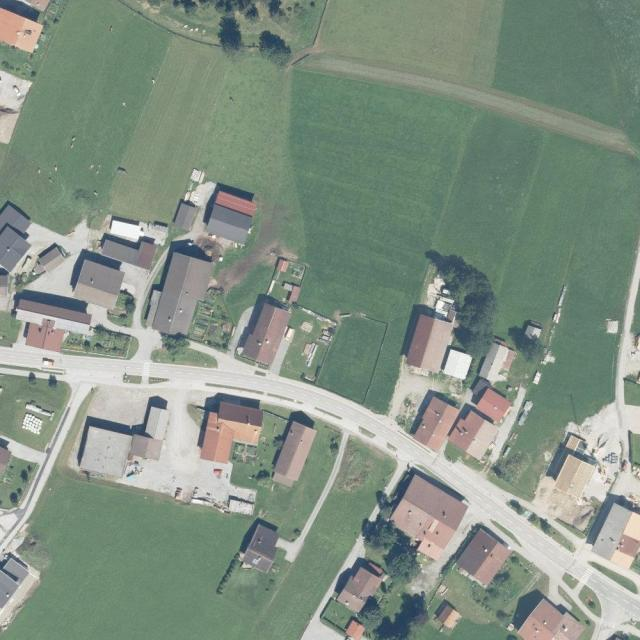agricultural_land: (102, 31, 240, 235), (316, 0, 503, 85)
building: (383, 473, 471, 563), (152, 252, 214, 341), (583, 493, 640, 571), (236, 292, 294, 367), (451, 526, 514, 591), (269, 420, 318, 490), (516, 594, 588, 640), (404, 312, 456, 375), (446, 407, 501, 462), (14, 298, 93, 336), (79, 426, 133, 481), (412, 396, 461, 454), (72, 260, 126, 311), (335, 562, 384, 615), (214, 401, 266, 445), (241, 523, 285, 574), (552, 452, 597, 500), (0, 8, 45, 55), (199, 411, 238, 465), (0, 201, 30, 271), (204, 203, 253, 245), (101, 234, 157, 270), (478, 340, 520, 387), (26, 241, 69, 281), (473, 386, 515, 426), (25, 316, 67, 352), (214, 189, 258, 218), (442, 348, 475, 382), (431, 599, 464, 633), (107, 217, 146, 244), (144, 406, 171, 441), (129, 433, 162, 461), (173, 201, 199, 233), (343, 618, 368, 640), (524, 321, 543, 339), (564, 433, 582, 452)
dryland: (0, 70, 31, 143)
greenland: (208, 56, 476, 414), (432, 114, 640, 367), (0, 471, 254, 640), (243, 436, 399, 640), (213, 393, 352, 544), (211, 54, 302, 249), (424, 234, 514, 362), (526, 322, 619, 441), (432, 150, 516, 269), (314, 309, 391, 404), (447, 563, 545, 629), (356, 506, 430, 589), (0, 372, 72, 453), (271, 307, 338, 387), (218, 252, 288, 321), (485, 434, 552, 502), (216, 561, 278, 626), (356, 593, 428, 640), (214, 241, 266, 292), (406, 620, 523, 639), (199, 128, 230, 184), (213, 551, 243, 595), (320, 597, 356, 631)
metalled_road: (271, 430, 366, 564), (300, 534, 393, 640), (102, 245, 166, 331), (85, 303, 131, 332), (382, 458, 410, 498), (131, 326, 162, 362), (369, 505, 382, 521)
unmetalled_road: (301, 39, 640, 158), (610, 236, 640, 457)
